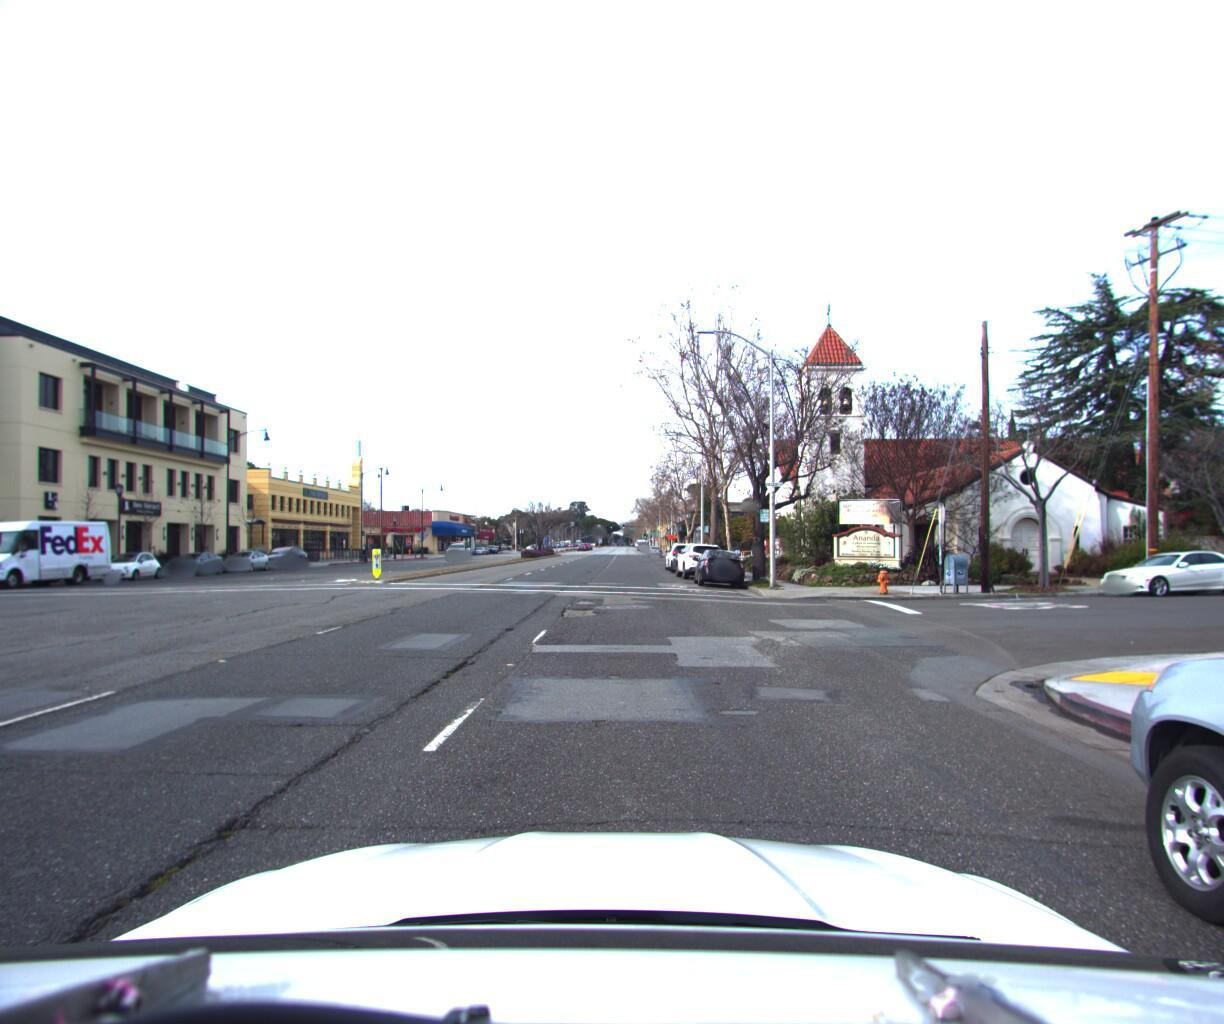bicycle: (357, 543, 371, 560)
car: (1082, 542, 1224, 594), (690, 541, 747, 584), (97, 548, 169, 581), (674, 536, 726, 576), (163, 547, 230, 576), (220, 545, 278, 571), (662, 536, 703, 567), (261, 542, 312, 567)
truck: (0, 514, 116, 593)
